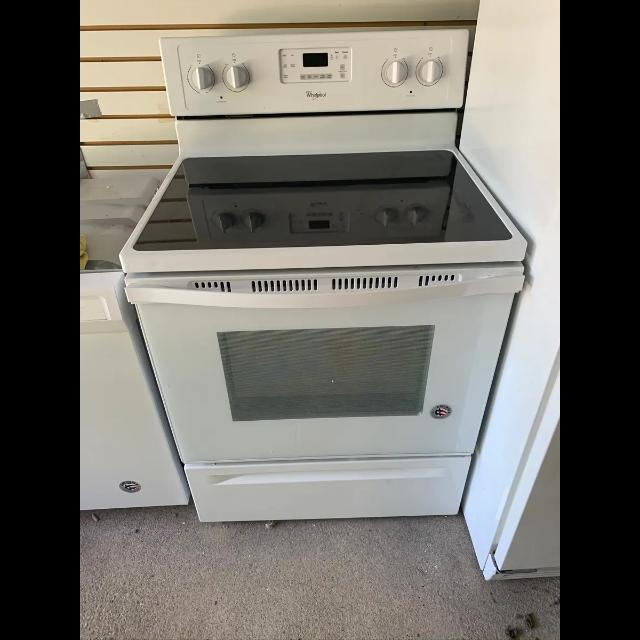Oven: (126, 243, 500, 522)
